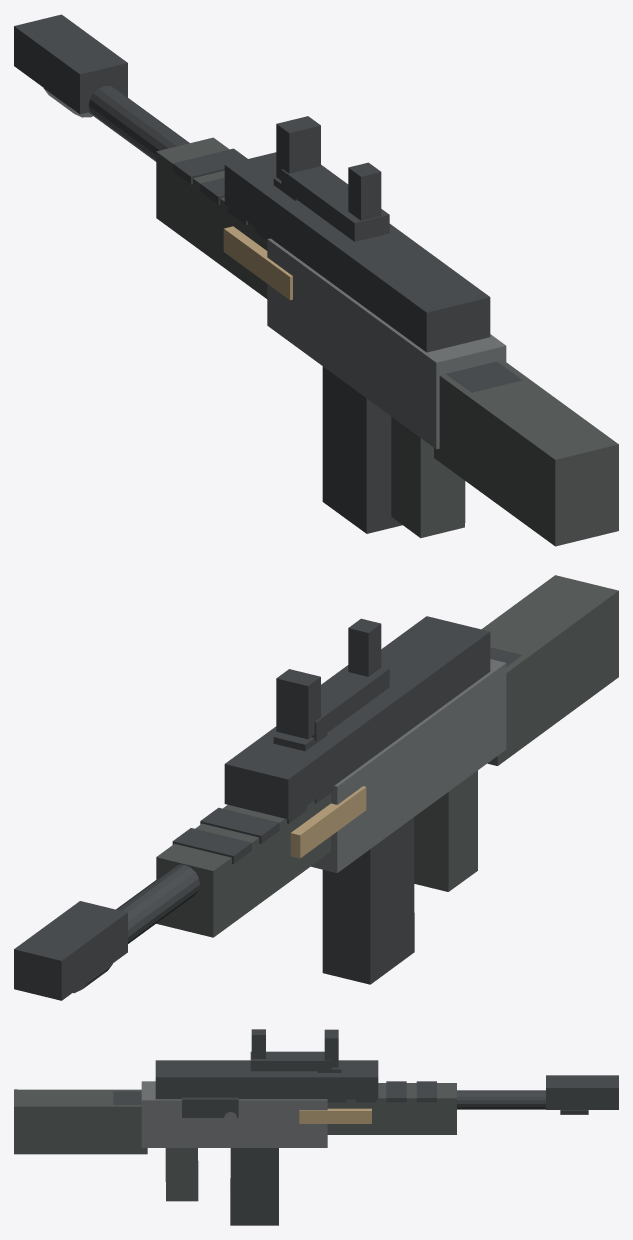
Rendered from rifle.glb.
The picture shows the model from 3 angles, top to bottom: view 1: azimuth 30°, elevation 25°; view 2: azimuth 150°, elevation 25°; view 3: azimuth 270°, elevation 25°; orthographic projection. The views are drawn at different scales.
Parts seen in each view (by area): view 1: rifle.001; view 2: rifle.001; view 3: rifle.001.
Part boxes in pixels (x1,y1,x2,y2): rifle.001: [14, 14, 618, 546]; rifle.001: [14, 575, 618, 1000]; rifle.001: [14, 1029, 618, 1225].
Bounding box in the file's own units: 0.123 × 0.5101 × 1.5.
